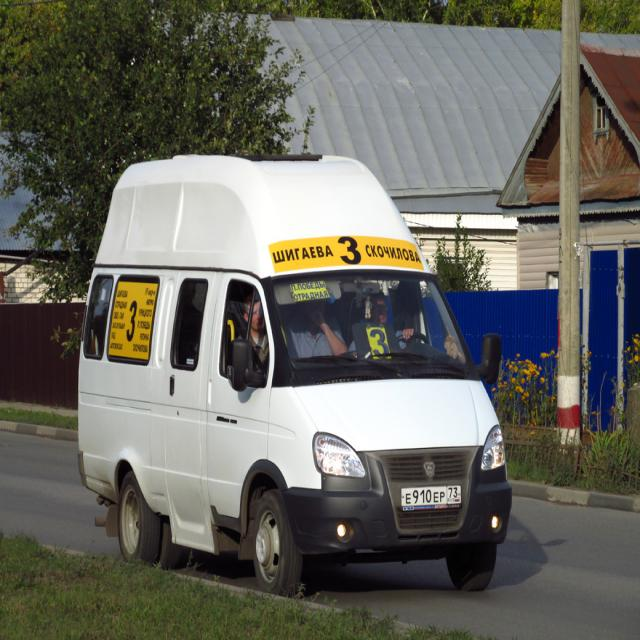number-of-bus: (337, 235, 364, 269), (369, 329, 393, 362), (125, 300, 140, 345)
